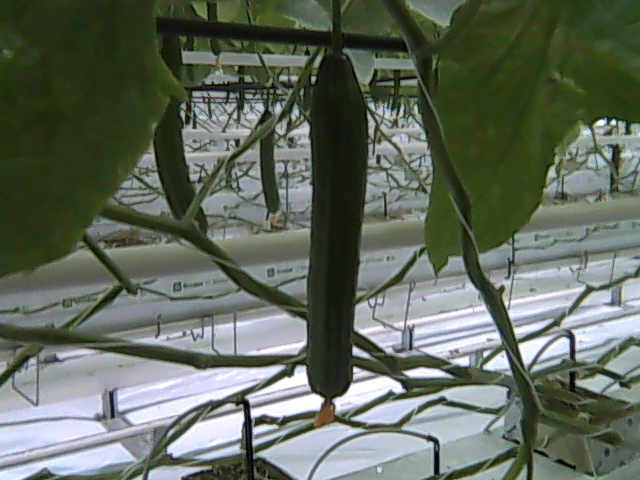concombre: (304, 46, 370, 429)
